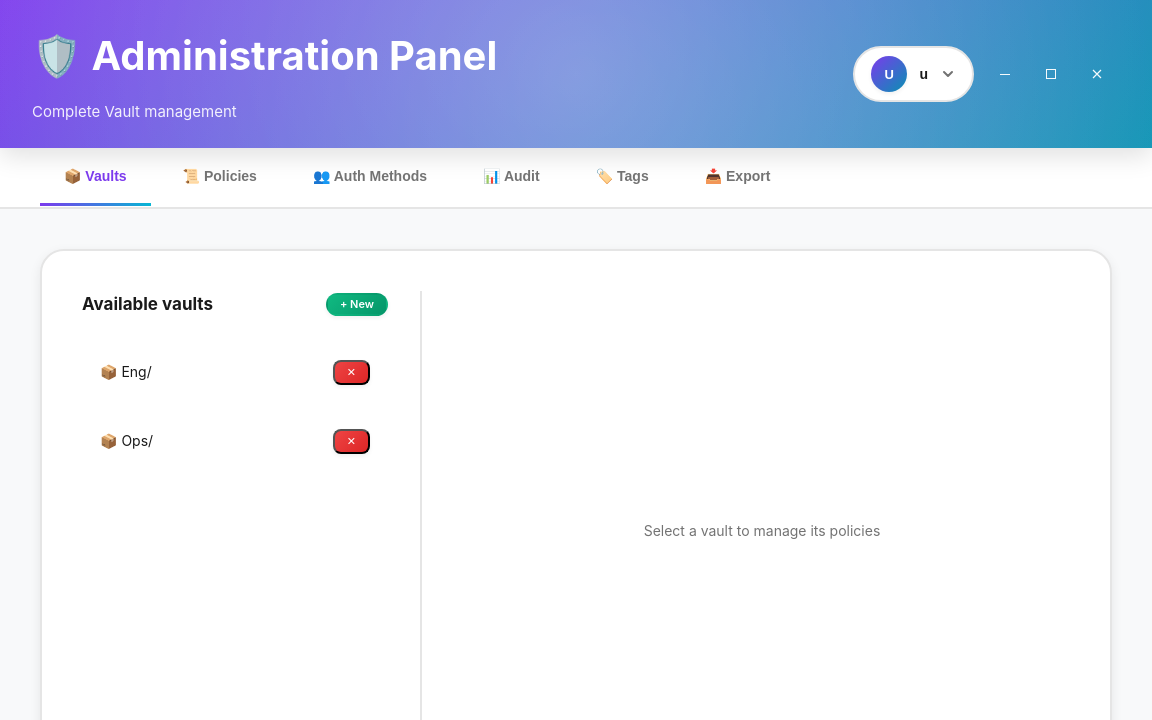
Test: UI-31 — listes utilisables au clavier › Policies : touche Menu / Maj+F10 sur une policy → menu clavier (focus, flèches, Échap)
The image size is (1152, 720).
Step 1. Click the tab "📜 Policies" → {"x": 220, "y": 178}, box [159,148,281,207]
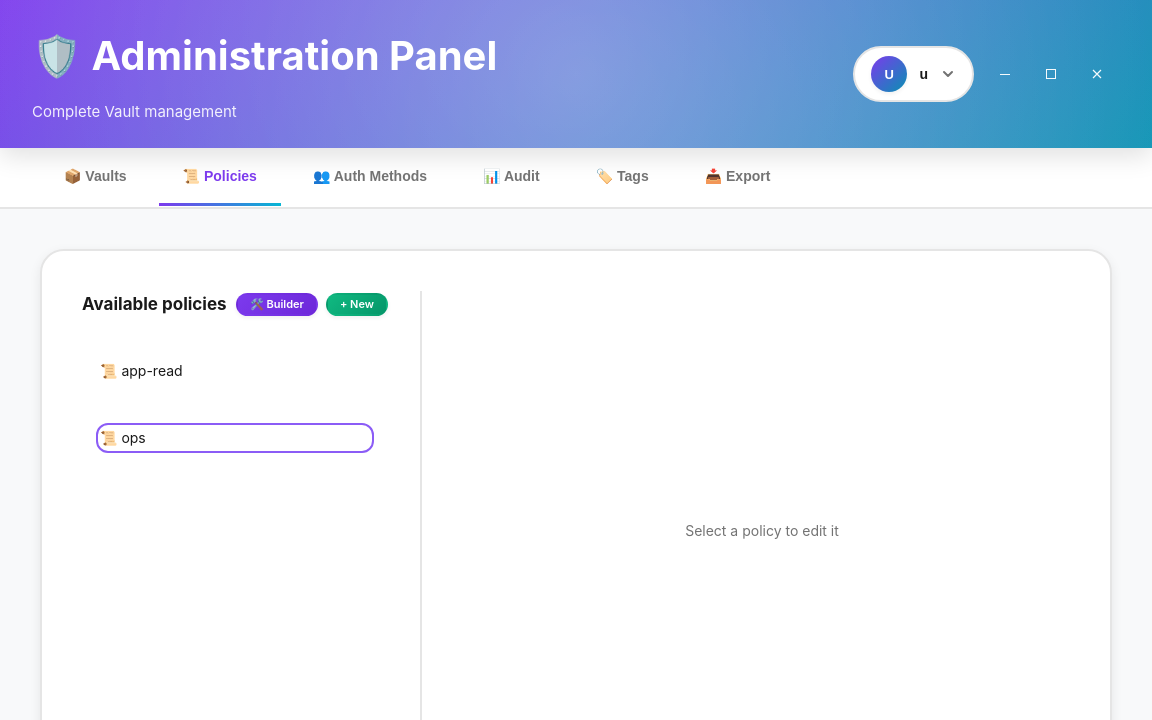
Step 2. Right-click the button with class "admin-item-select" showing "📜 ops" → {"x": 109, "y": 437}, box [100,427,370,449]
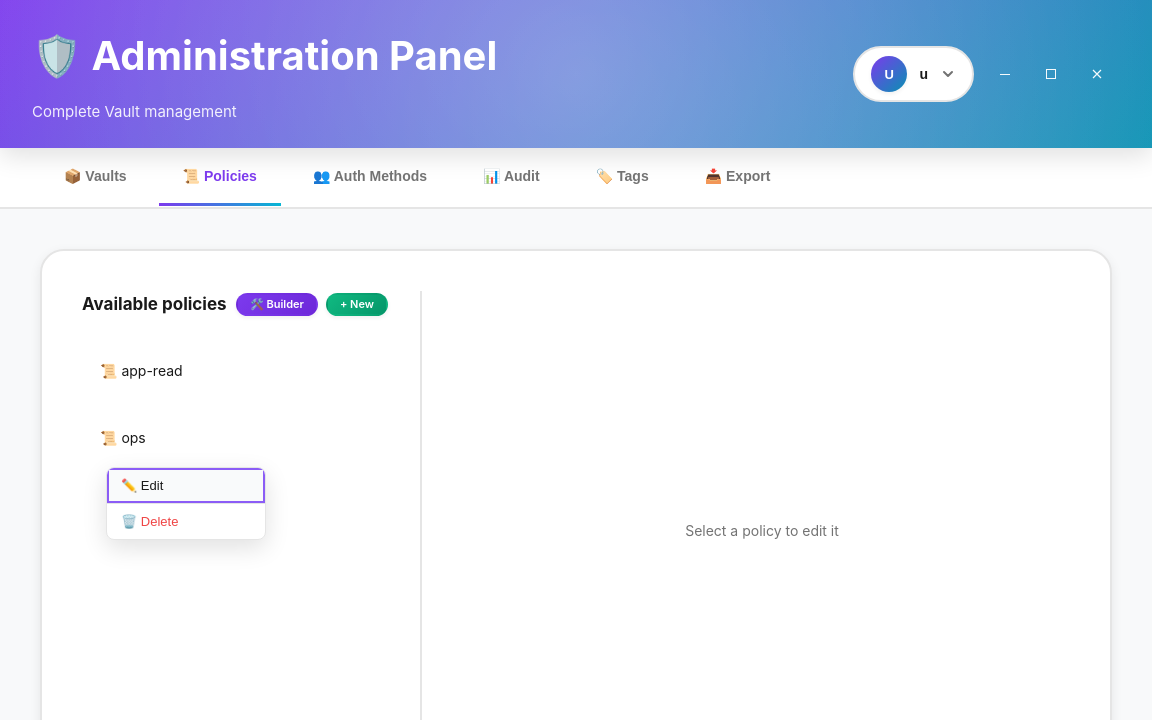
Now the menu is shown, box [106,467,266,540]
Step 3. Press ArrowDown in the menu item "✏️ Edit", box [107,468,265,503]
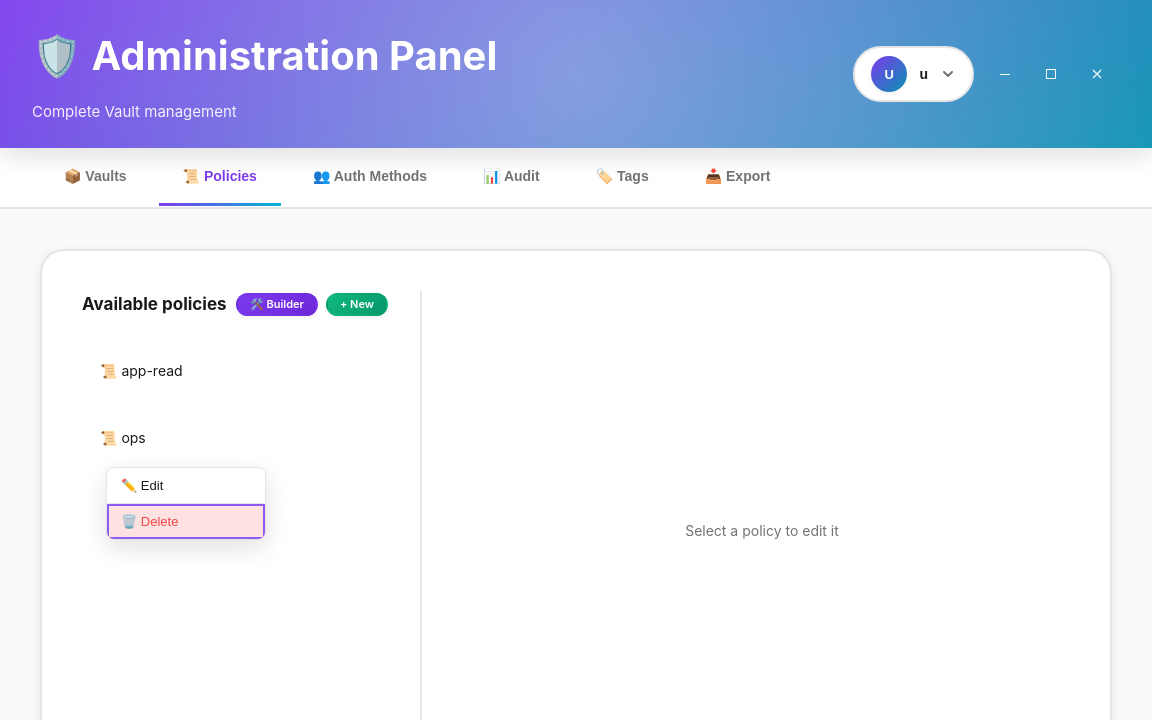
Step 4. Press ArrowDown in the menu item "🗑️ Delete", box [107,504,265,539]
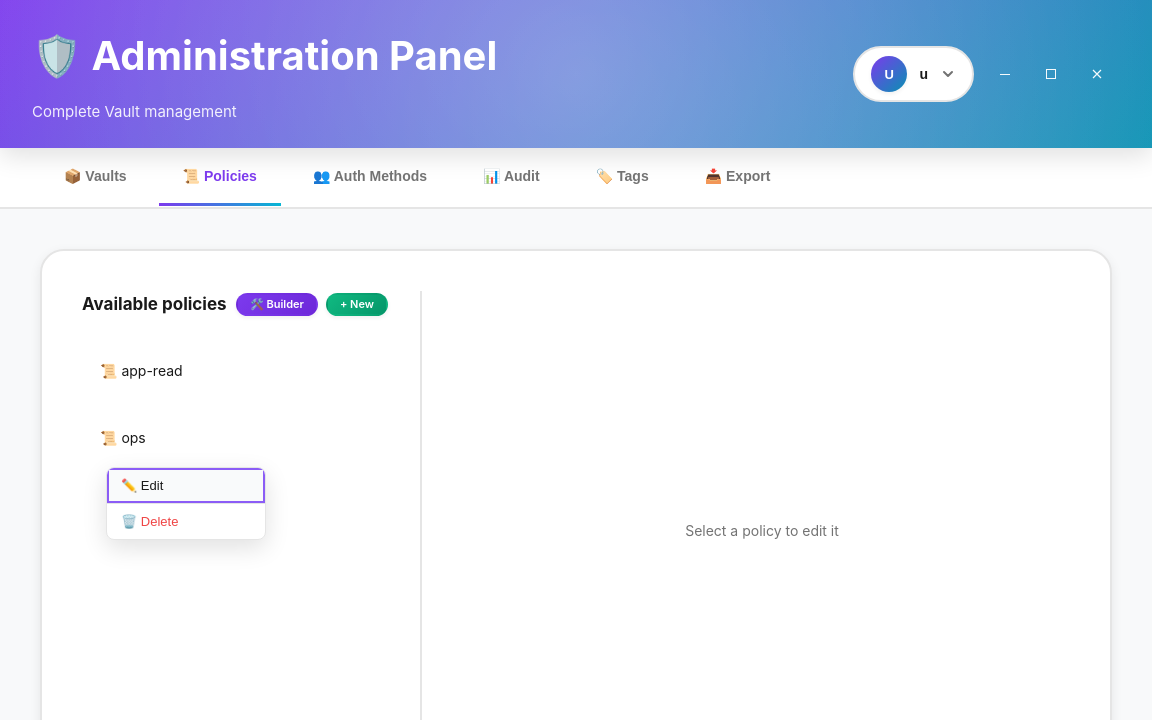
Step 5. Press Escape in the menu item "✏️ Edit", box [107,468,265,503]
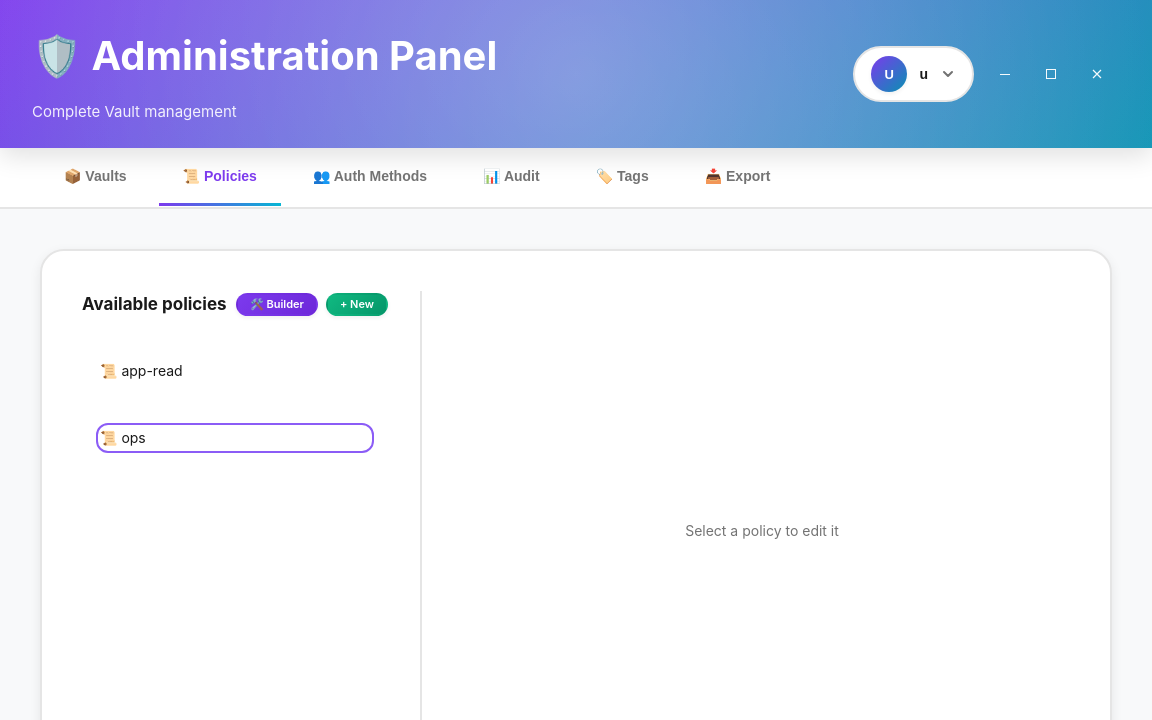
Now the menu is gone
